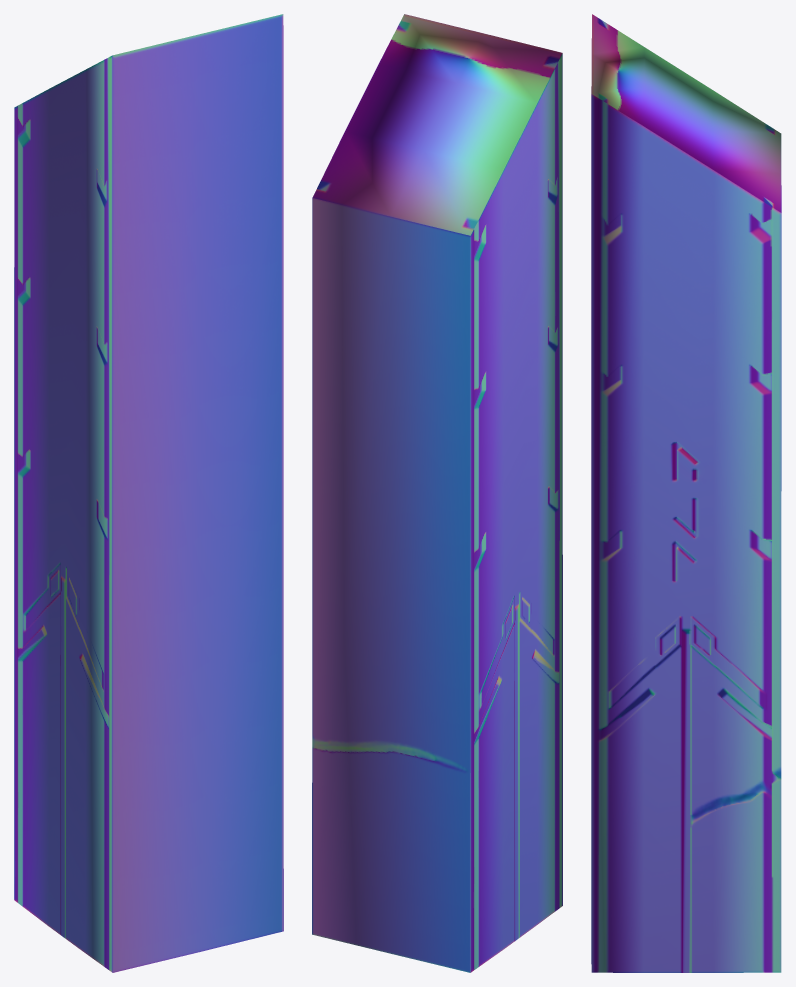
File: RAI-FirstColumn.fbx
3 views of the same model, side by side, from view 1: azimuth 30°, elevation 25°; view 2: azimuth 150°, elevation 25°; view 3: azimuth 270°, elevation 25° (orthographic). The views are drawn at different scales.
Parts seen in each view (by area): view 1: RetopoGroup1; view 2: RetopoGroup1; view 3: RetopoGroup1.
Boxes of the visible parts, x1,y1,x2,y2 form: RetopoGroup1: (14,14,283,972); RetopoGroup1: (312,14,562,972); RetopoGroup1: (591,14,781,972).
Size of the model in its own units: 135 by 690 by 135.
